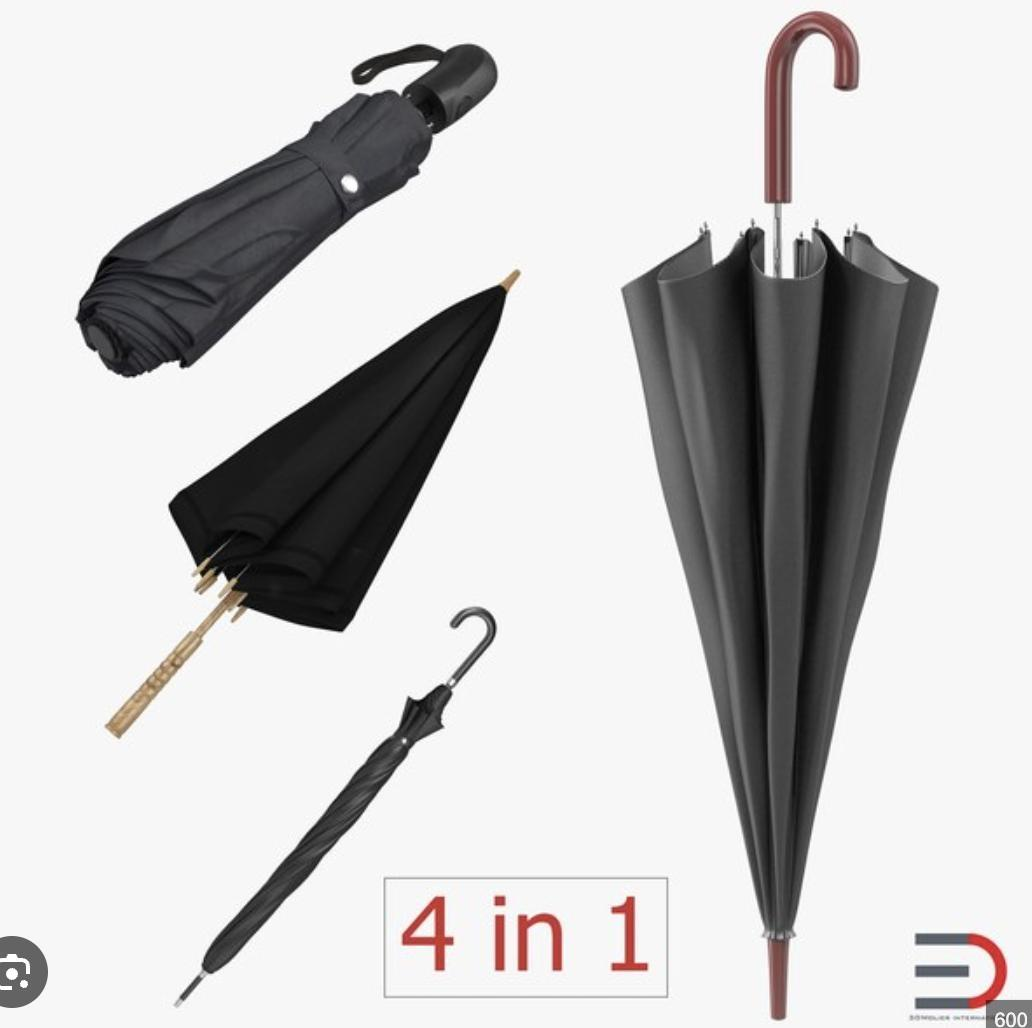Umbrella: (612, 8, 946, 1022), (32, 8, 545, 431), (101, 265, 530, 747), (170, 603, 503, 1015)
